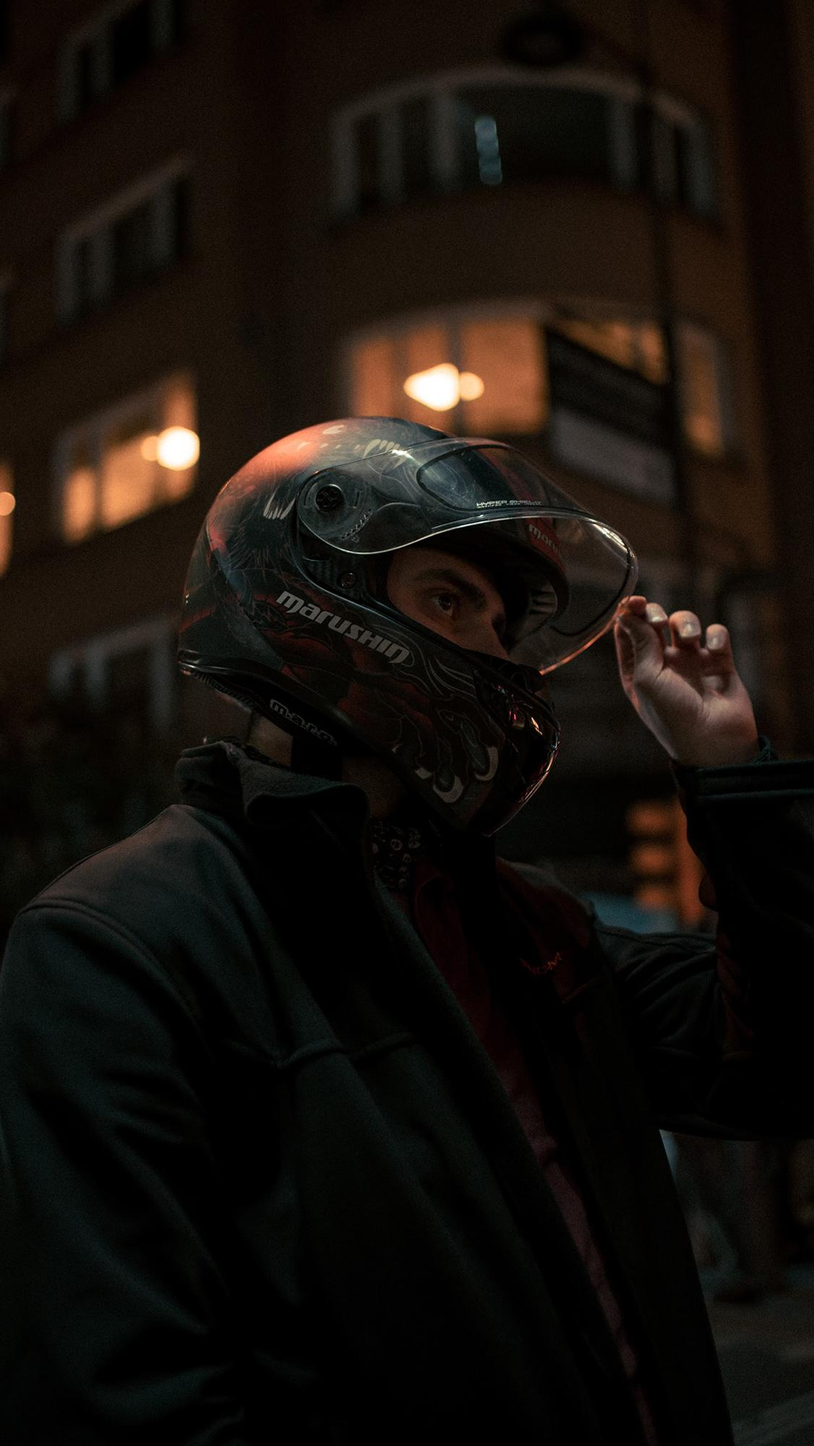helmet: (172, 413, 642, 848)
